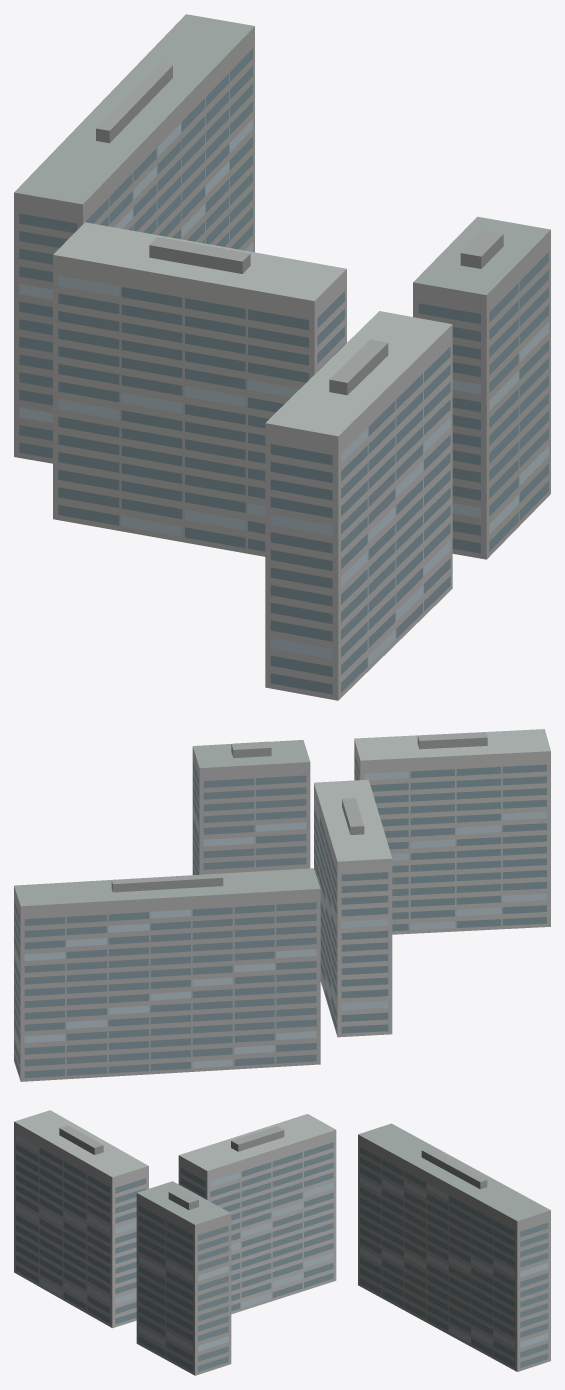
File: apt-a15205301.glb
3 views of the same model, one above another, from view 1: azimuth 30°, elevation 25°; view 2: azimuth 150°, elevation 25°; view 3: azimuth 270°, elevation 25° (orthographic). The views are drawn at different scales.
Visible parts, largest first — view 1: apt-a15205301; view 2: apt-a15205301; view 3: apt-a15205301.
Boxes of the visible parts, left/top/right/bottom form: apt-a15205301: left=14, top=14, right=550, bottom=700; apt-a15205301: left=14, top=729, right=550, bottom=1081; apt-a15205301: left=14, top=1110, right=550, bottom=1375.
Bounding box in the file's own units: 65.49 × 42 × 129.
